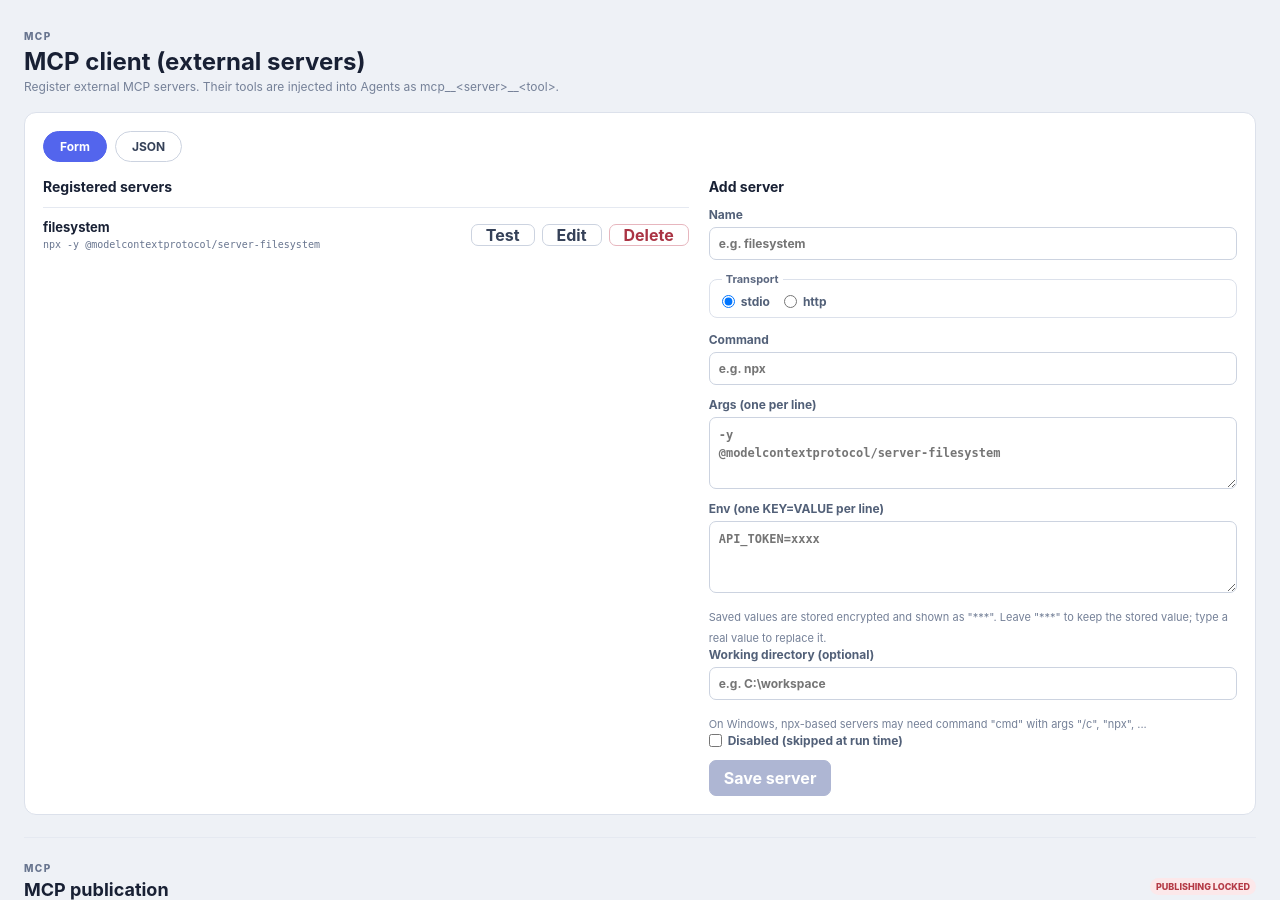
it: McpPage › MCPクライアント › 接続失敗はHTTPエラーではなくerror本文として表示する
Step 1. Click the button "Test" → [503, 234], box [471, 224, 534, 246]
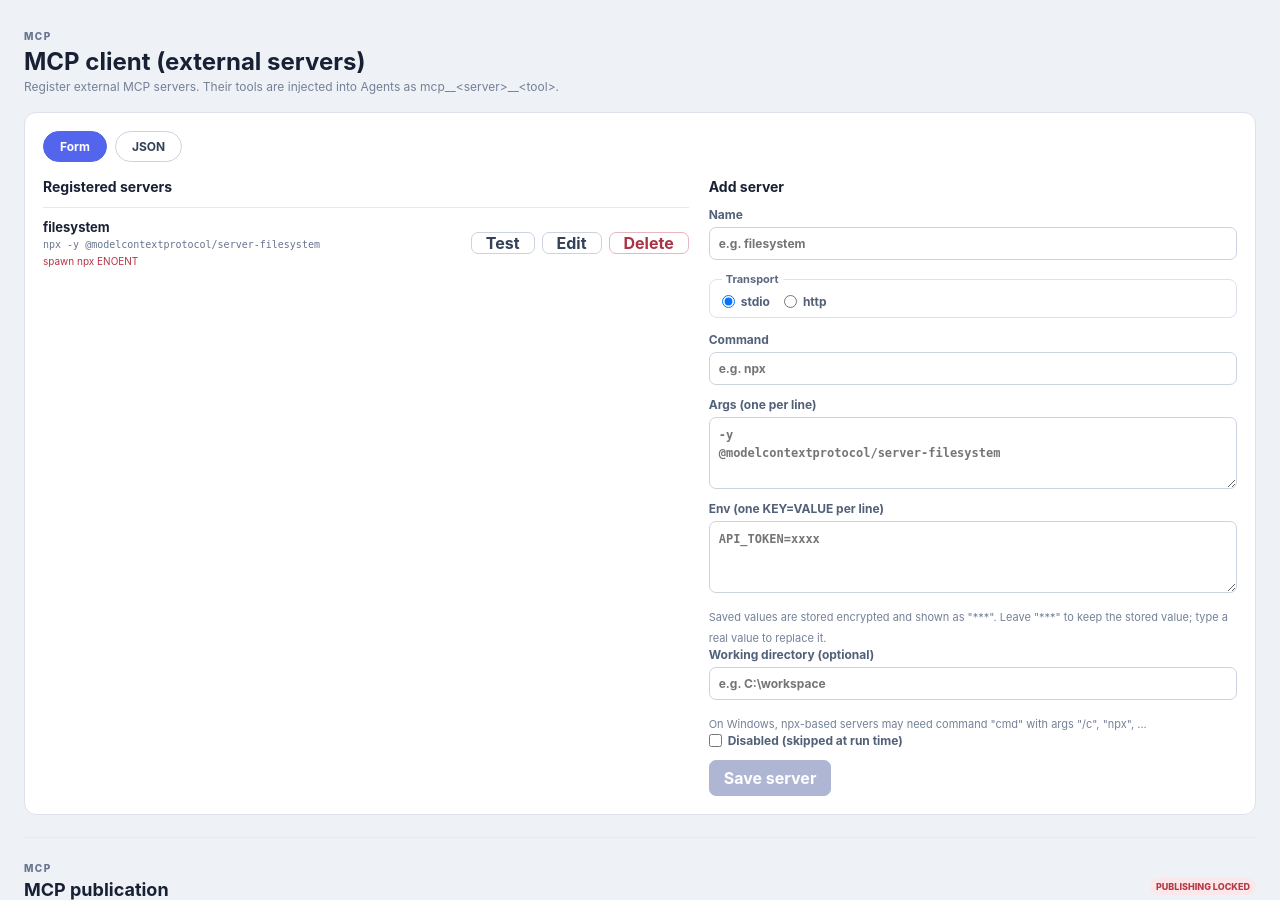
Expected: the text "spawn npx ENOENT" is shown, [43, 255, 138, 267]
